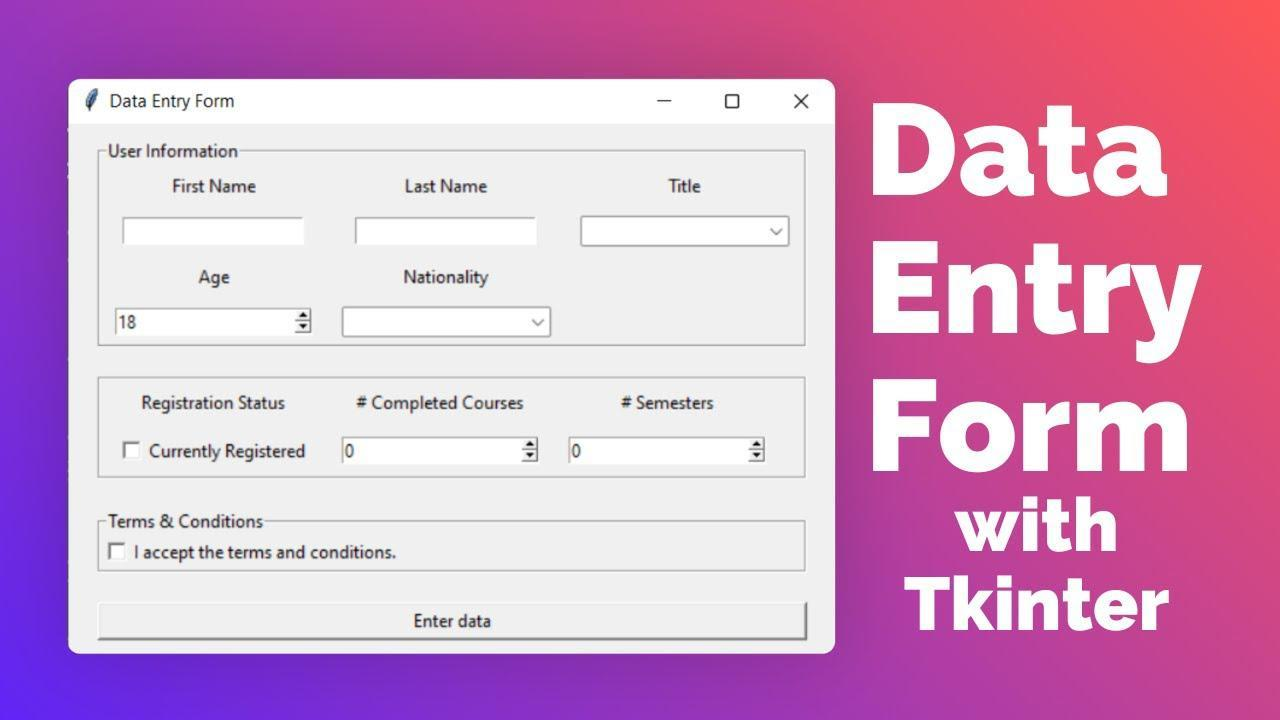button: (97, 604, 810, 641)
checkbox: (108, 543, 129, 562), (123, 442, 142, 458), (725, 93, 741, 111)
dropdown: (582, 216, 789, 247), (342, 308, 551, 337), (570, 437, 765, 466), (342, 438, 540, 466), (117, 308, 314, 336)
icon: (791, 94, 811, 113), (654, 98, 675, 107)
input: (124, 217, 306, 247), (356, 217, 538, 246)
label: (135, 542, 405, 565), (354, 393, 530, 420), (107, 509, 269, 534), (149, 438, 310, 463), (133, 395, 288, 418), (615, 389, 729, 415), (398, 264, 493, 293), (401, 173, 495, 200), (167, 175, 263, 199), (195, 267, 245, 287), (665, 173, 703, 196)
